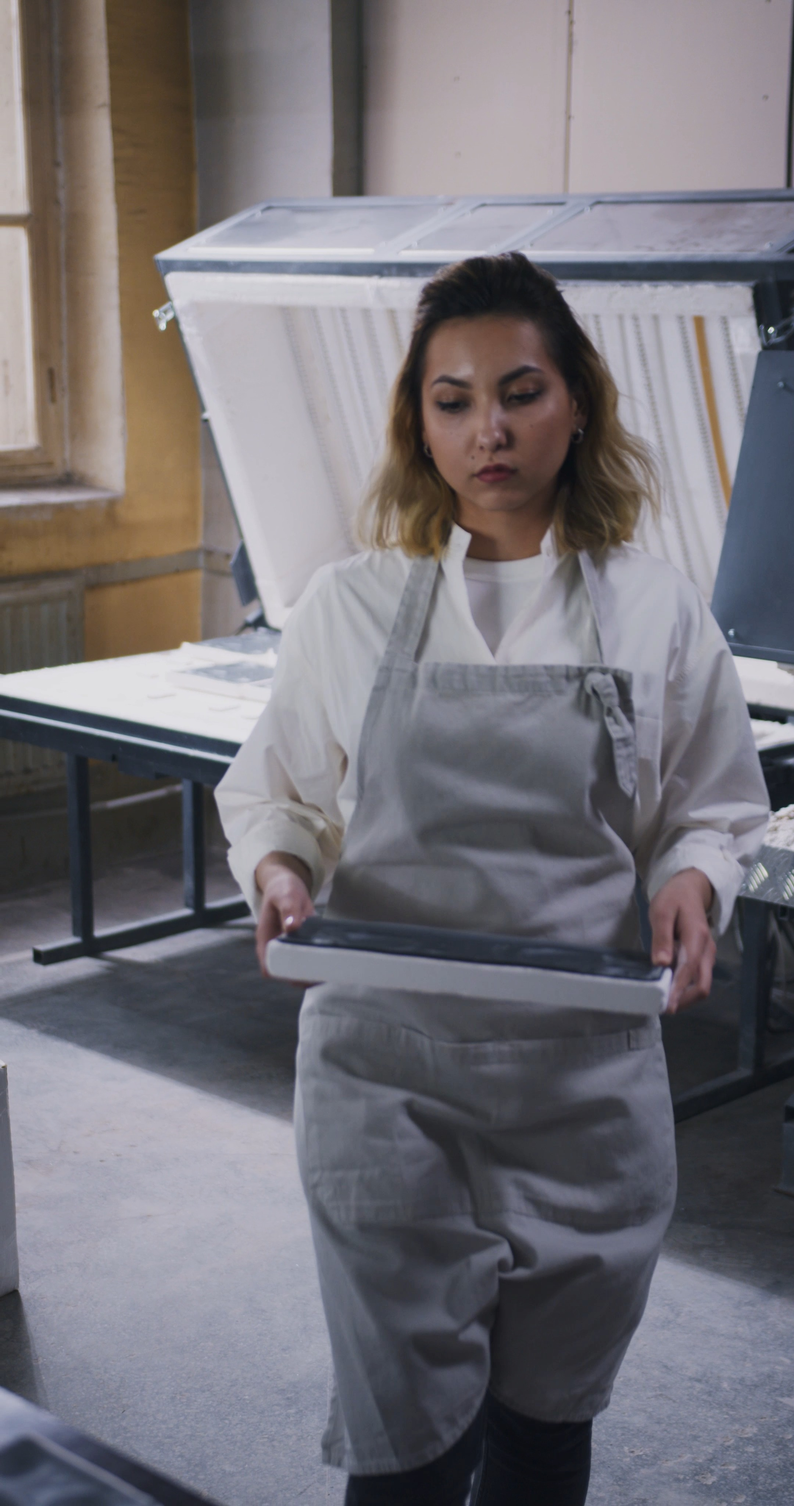No-gloves: (206, 835, 376, 993), (614, 841, 761, 1022)
